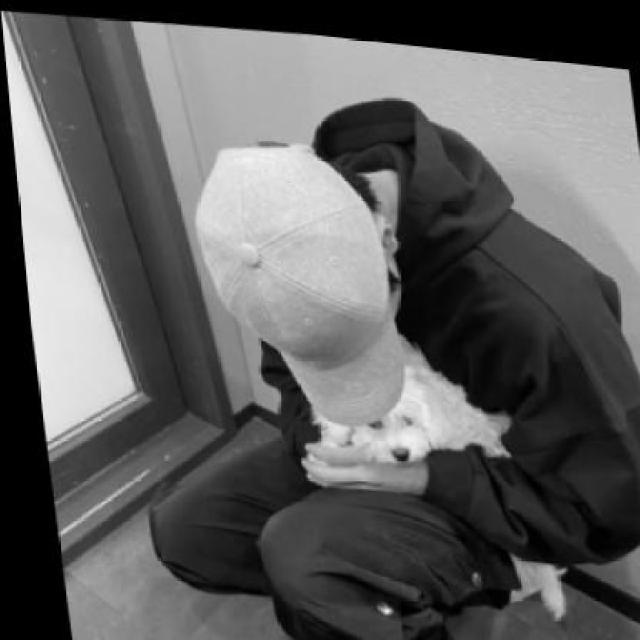hat: (178, 120, 408, 429)
